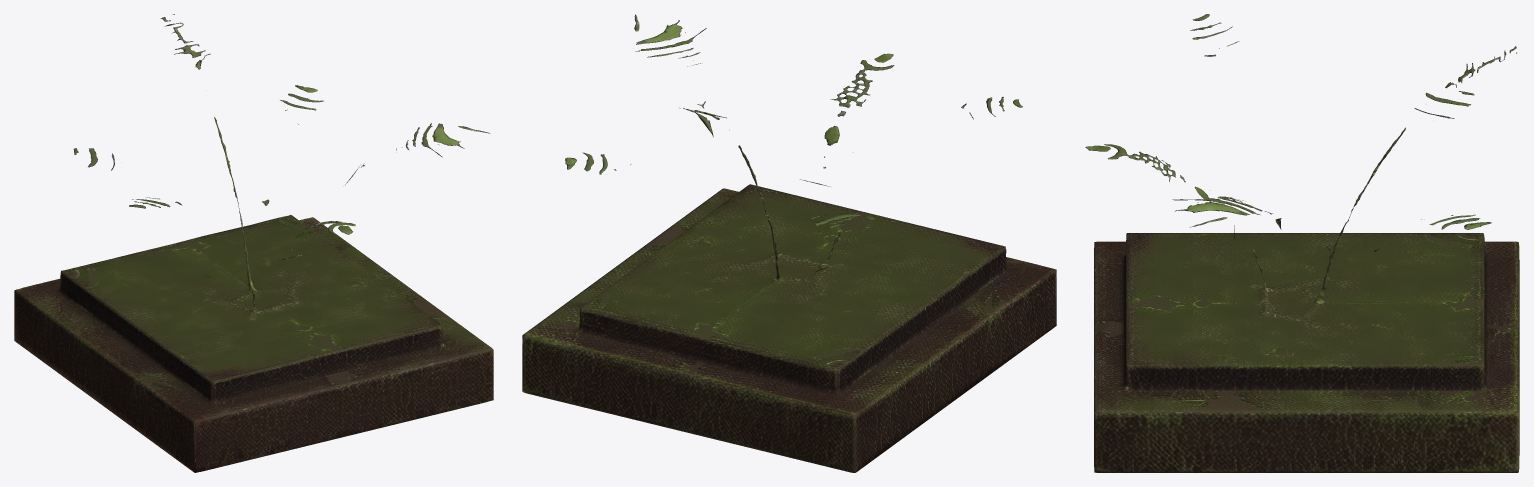
Rendered from fern_plant.glb.
The picture shows the model from 3 angles, left to right: view 1: azimuth 30°, elevation 25°; view 2: azimuth 150°, elevation 25°; view 3: azimuth 270°, elevation 25°; orthographic projection. The views are drawn at different scales.
Parts seen in each view (by area): view 1: model; view 2: model; view 3: model.
Boxes of the visible parts, bbox=[...] form: model: bbox=[14, 14, 493, 472]; model: bbox=[522, 14, 1056, 472]; model: bbox=[1085, 14, 1519, 472].
Bounding box in the file's own units: 1.78 × 1.39 × 1.61.
1 material, 1 textured.
